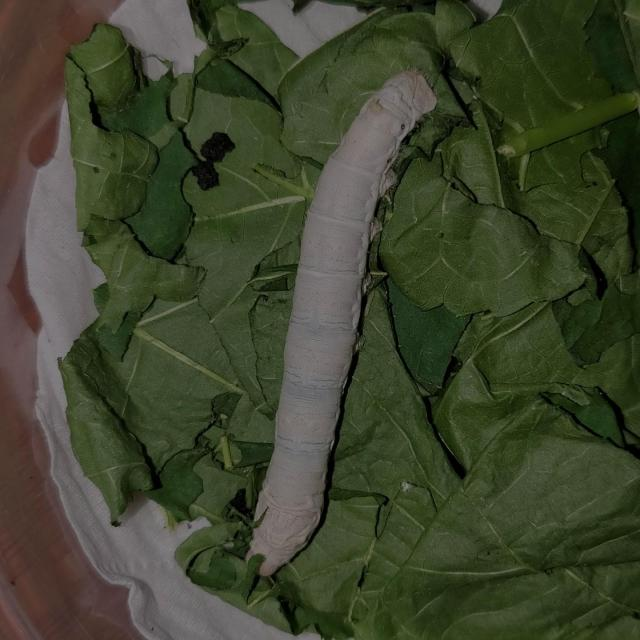Healthy: (242, 61, 446, 583)
